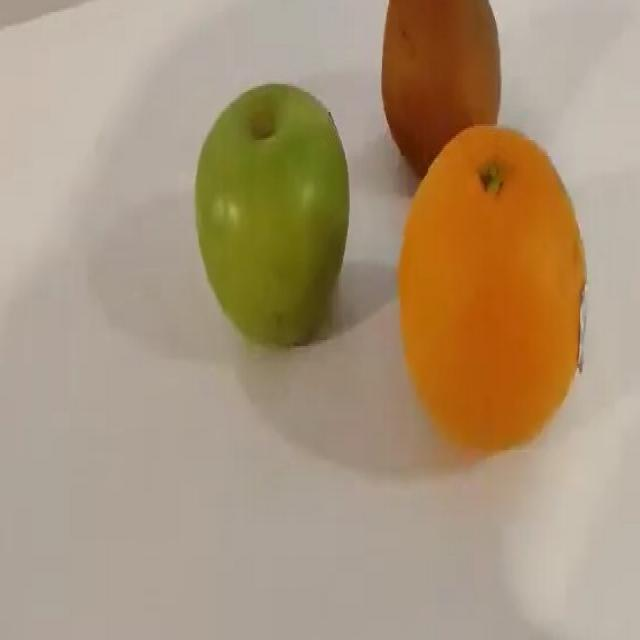Apple: (194, 82, 350, 348), (380, 0, 501, 178)
Orange: (396, 123, 587, 455)
